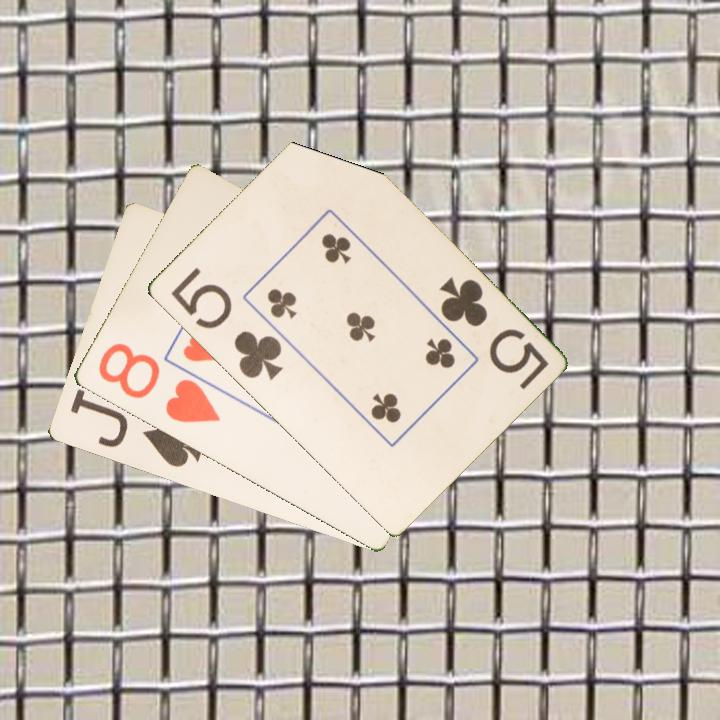5c: (166, 264, 286, 383), (435, 273, 551, 392)
8h: (94, 339, 223, 426)
Js: (66, 385, 207, 471)
